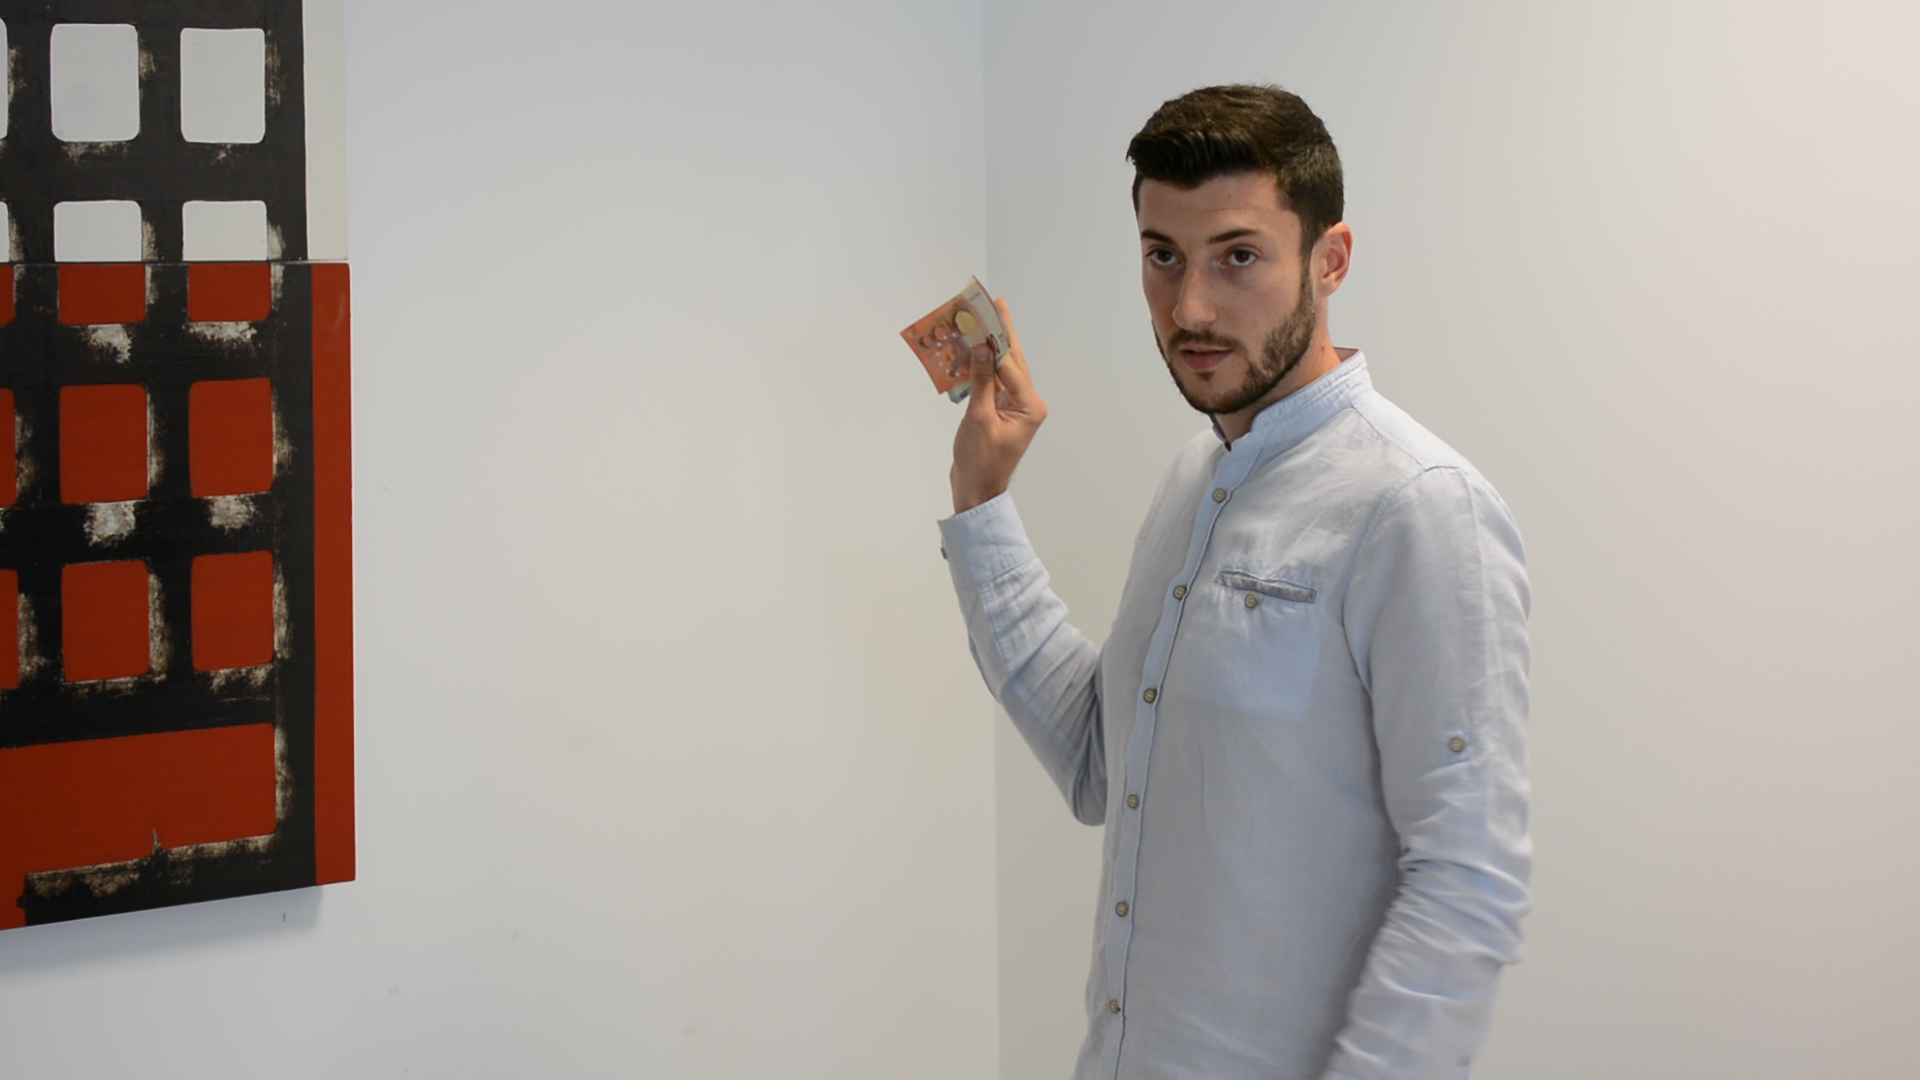billete: (897, 273, 1022, 405)
